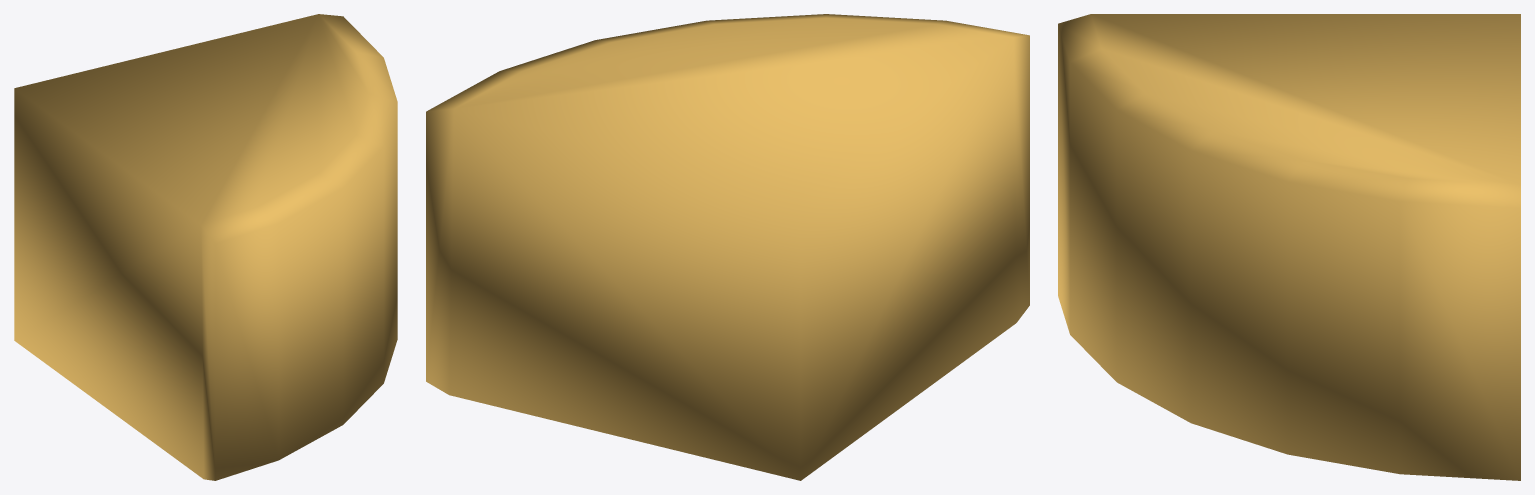
Rendered from QuartoFormaFormaggio.fbx.
3 renders of one model, left to right at view 1: azimuth 30°, elevation 25°; view 2: azimuth 150°, elevation 25°; view 3: azimuth 270°, elevation 25°, orthographic. The views are drawn at different scales.
Parts seen in each view (by area): view 1: QuartoDiFormaFormaggio; view 2: QuartoDiFormaFormaggio; view 3: QuartoDiFormaFormaggio.
Part boxes in pixels (x1,y1,x2,y2): QuartoDiFormaFormaggio: (14,14,397,480); QuartoDiFormaFormaggio: (426,14,1029,480); QuartoDiFormaFormaggio: (1058,14,1520,480).
Size of the model in its own units: 365 by 267 by 386.
